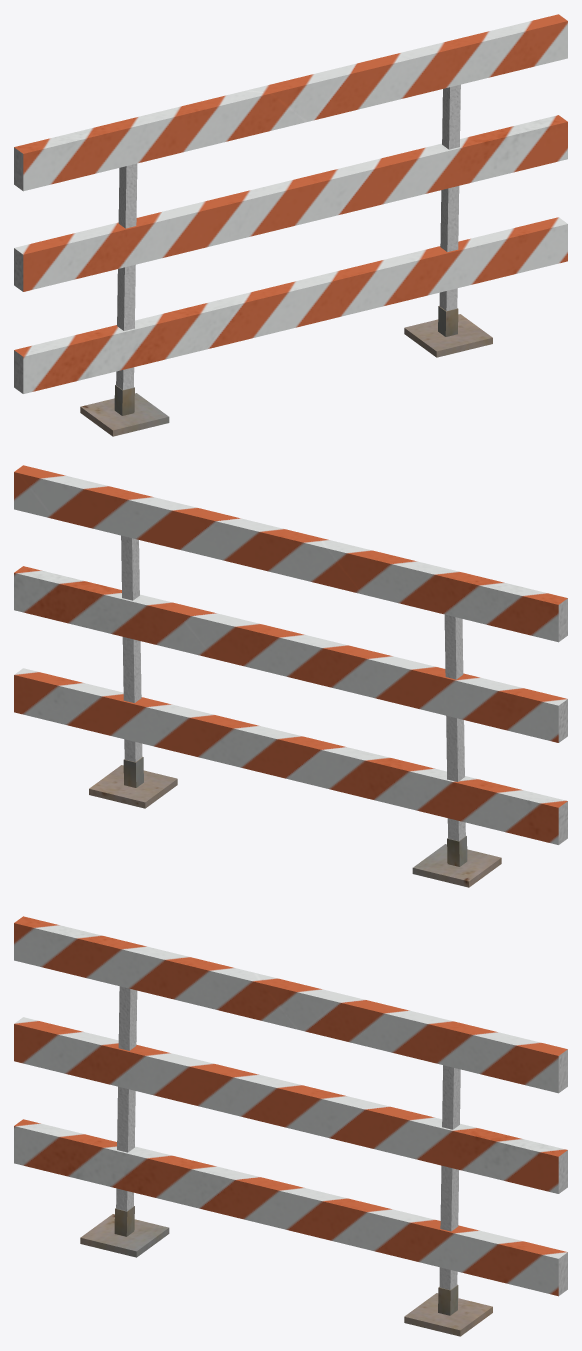
The model's file is Barricade3L.fbx.
3 renders of one model, top to bottom at view 1: azimuth 30°, elevation 25°; view 2: azimuth 150°, elevation 25°; view 3: azimuth 330°, elevation 25°, orthographic.
Parts seen in each view (by area): view 1: Barricade3L; view 2: Barricade3L; view 3: Barricade3L.
Boxes of the visible parts, <box> form: Barricade3L: <box>14,14,567,436</box>; Barricade3L: <box>14,465,567,887</box>; Barricade3L: <box>14,916,567,1336</box>.
Size of the model in its own units: 278 by 143 by 28.68.
Materials: 1 (1 with a texture image).
